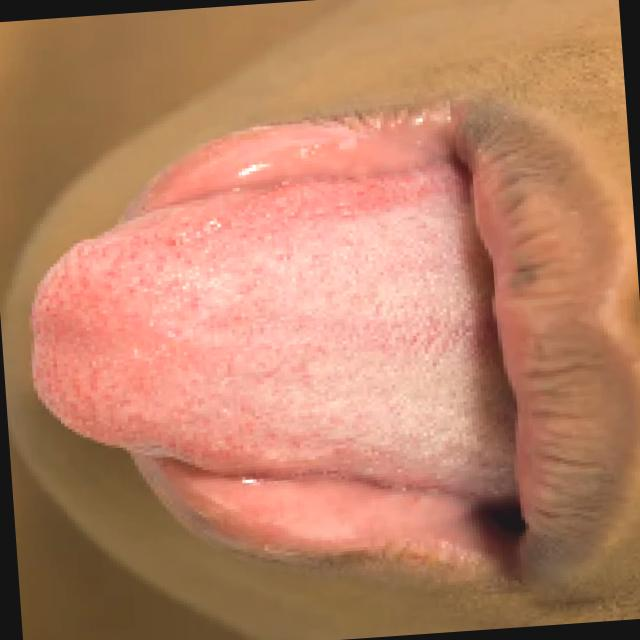No Cancer: (259, 134, 564, 487)
